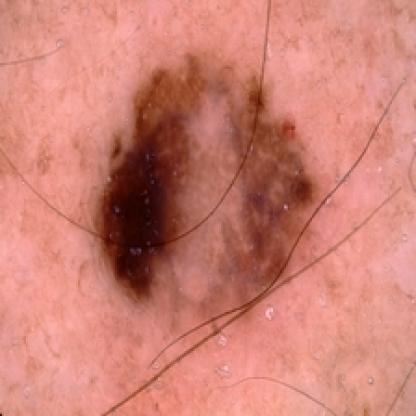Skin_Cancer-Malignant: (95, 52, 316, 319)
